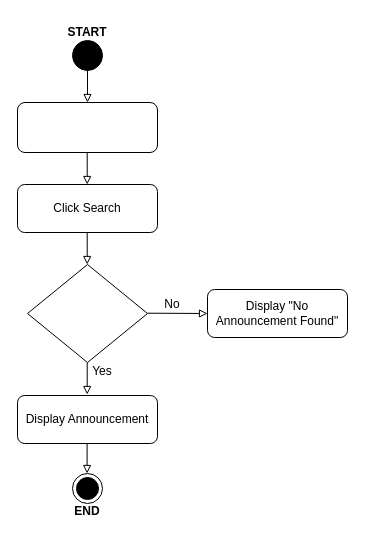
Image size: 365x543. Some labels were removed from this diagram. The box of each missing label's shape, as (x1, y1, x2, y2) in pixels:
Are there matching announcements?: (26, 264, 148, 362)
Input Keyword: (16, 102, 158, 152)
